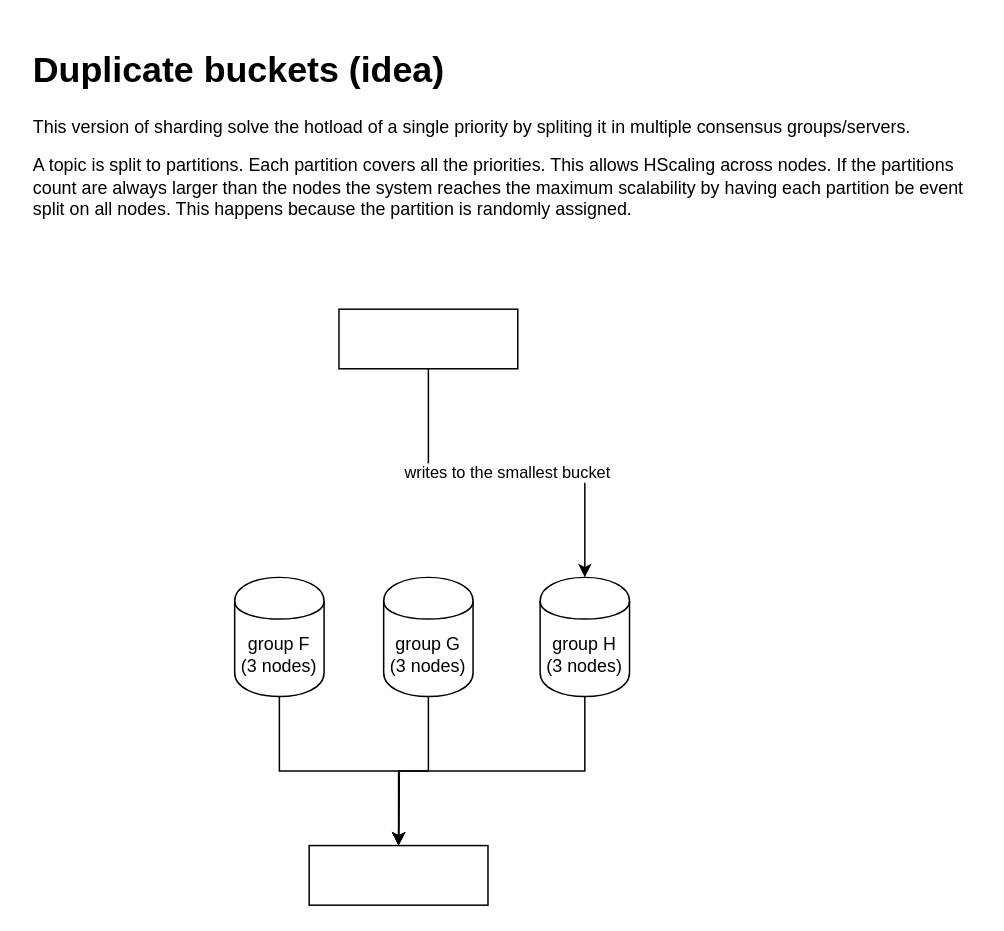
The diagram is 1004 pixels wide and 931 high, and some of its shapes have lost their labels. Each missing label, with the centre of its shape:
"consumers" belongs at (398,874).
"producers" belongs at (427,338).
